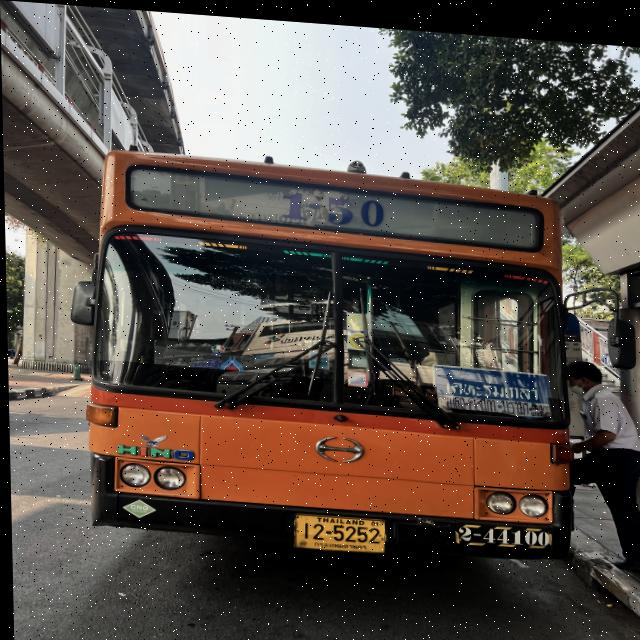BMTA-bus: (84, 149, 572, 554)
Bus Line Number: (272, 180, 392, 225)
Bus Side Number: (452, 515, 549, 543)
Destination Sign: (430, 357, 554, 413)
